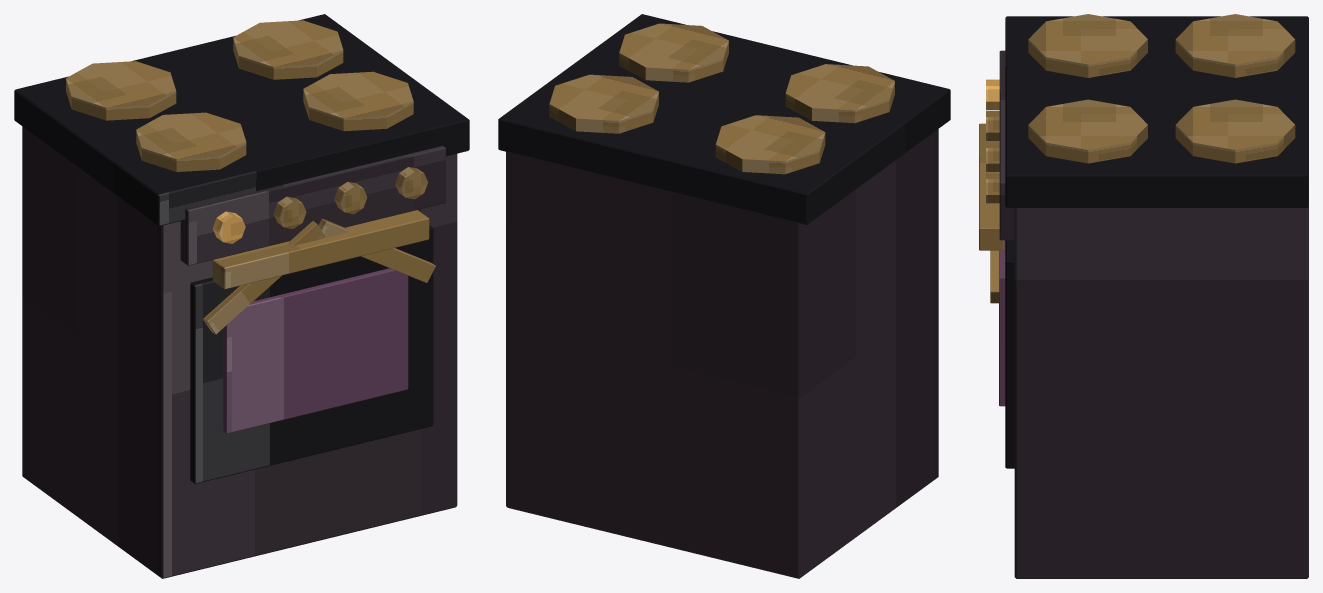
File: gothic_kitchen_stove.glb
3 renders of one model, left to right at view 1: azimuth 30°, elevation 25°; view 2: azimuth 150°, elevation 25°; view 3: azimuth 270°, elevation 25°, orthographic. The views are drawn at different scales.
Parts seen in each view (by area): view 1: RangeBody, Cooktop, OvenWindow, OvenDoor, RangeControls, OvenHandle, Burner_4, Burner_1, Burner_3, Burner_2, OvenArchLeft, OvenArchRight (+4 smaller); view 2: RangeBody, Cooktop, Burner_3, Burner_4, Burner_2, Burner_1; view 3: RangeBody, Cooktop, Burner_4, Burner_3, Burner_2, Burner_1, OvenDoor, OvenHandle, RangeControls, OvenWindow, OvenArchRight, RangeKnob_1 (+3 smaller).
Boxes of the visible parts, x1=… form: RangeBody: x1=22, y1=126, x2=457, y2=578; Cooktop: x1=14, y1=14, x2=469, y2=226; OvenWindow: x1=223, y1=268, x2=408, y2=433; OvenDoor: x1=190, y1=225, x2=433, y2=483; RangeControls: x1=180, y1=146, x2=445, y2=265; OvenHandle: x1=212, y1=210, x2=429, y2=289; Burner_4: x1=233, y1=20, x2=343, y2=79; Burner_1: x1=136, y1=112, x2=246, y2=171; Burner_3: x1=66, y1=61, x2=176, y2=120; Burner_2: x1=303, y1=71, x2=413, y2=131; OvenArchLeft: x1=203, y1=221, x2=325, y2=334; OvenArchRight: x1=318, y1=218, x2=435, y2=283; RangeBody: x1=506, y1=129, x2=938, y2=578; Cooktop: x1=498, y1=14, x2=950, y2=224; Burner_3: x1=715, y1=115, x2=825, y2=174; Burner_4: x1=549, y1=74, x2=658, y2=133; Burner_2: x1=619, y1=23, x2=728, y2=82; Burner_1: x1=785, y1=64, x2=894, y2=123; RangeBody: x1=1014, y1=207, x2=1308, y2=578; Cooktop: x1=1005, y1=16, x2=1308, y2=207; Burner_4: x1=1175, y1=99, x2=1295, y2=163; Burner_3: x1=1175, y1=14, x2=1295, y2=77; Burner_2: x1=1028, y1=99, x2=1147, y2=163; Burner_1: x1=1028, y1=14, x2=1147, y2=77; OvenDoor: x1=1005, y1=240, x2=1014, y2=468; OvenHandle: x1=979, y1=123, x2=1004, y2=250; RangeControls: x1=999, y1=50, x2=1014, y2=240; OvenWindow: x1=999, y1=240, x2=1005, y2=406; OvenArchRight: x1=990, y1=172, x2=999, y2=303; RangeKnob_1: x1=986, y1=79, x2=999, y2=109.
Size of the model in its own units: 0.82 by 1.01 by 0.7175.
Materials: 1 (1 with a texture image).
